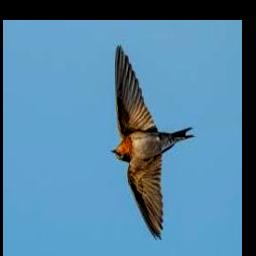Swallow: (110, 45, 193, 242)
